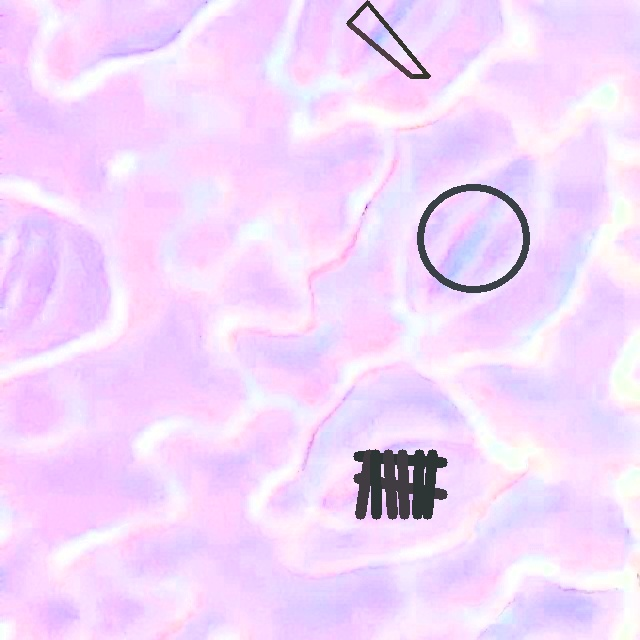open: (416, 183, 530, 294), (354, 449, 447, 519), (347, 0, 429, 77)
